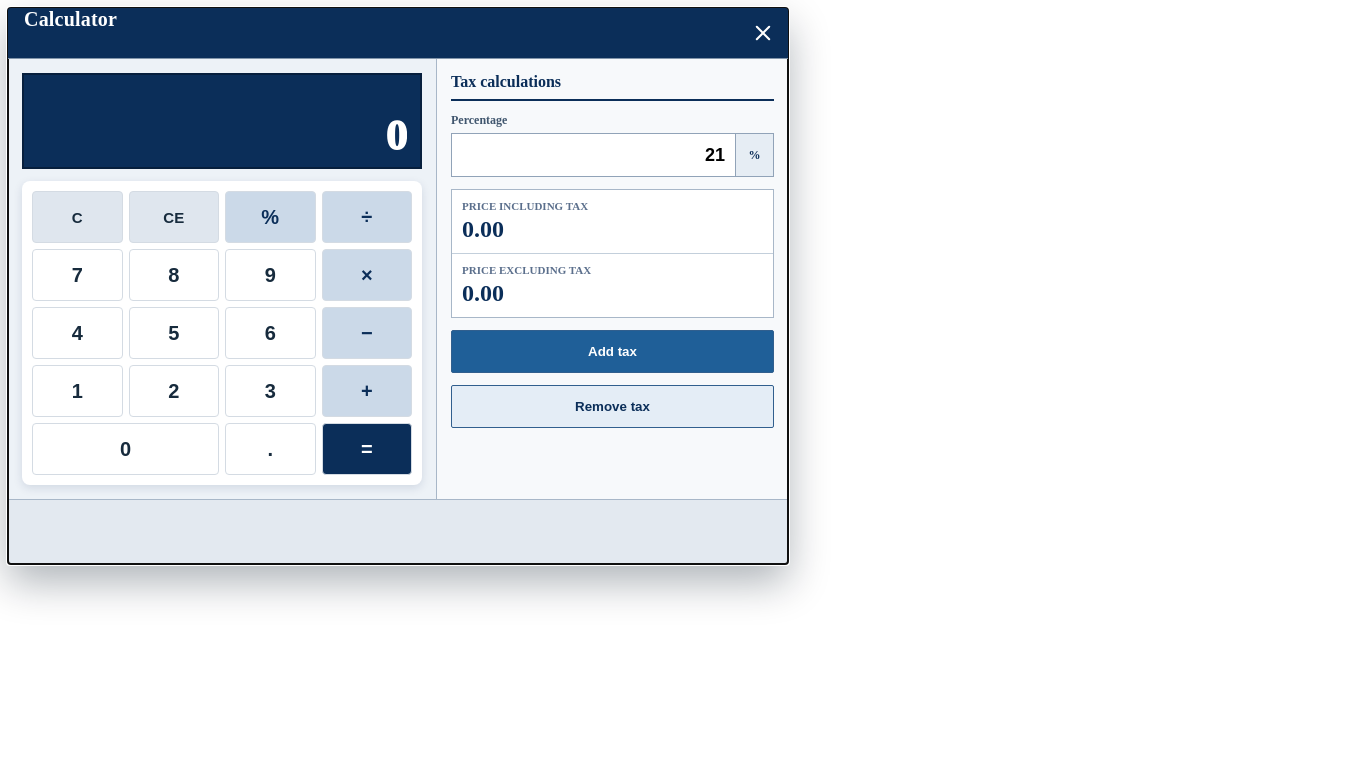
it: SaleCalculatorDialog interaction › clears only the focused percentage and keeps physical typing in that field
Click the button with aria-label "Clear entry". click: coordinates (174, 217)
box: [128, 191, 219, 243]
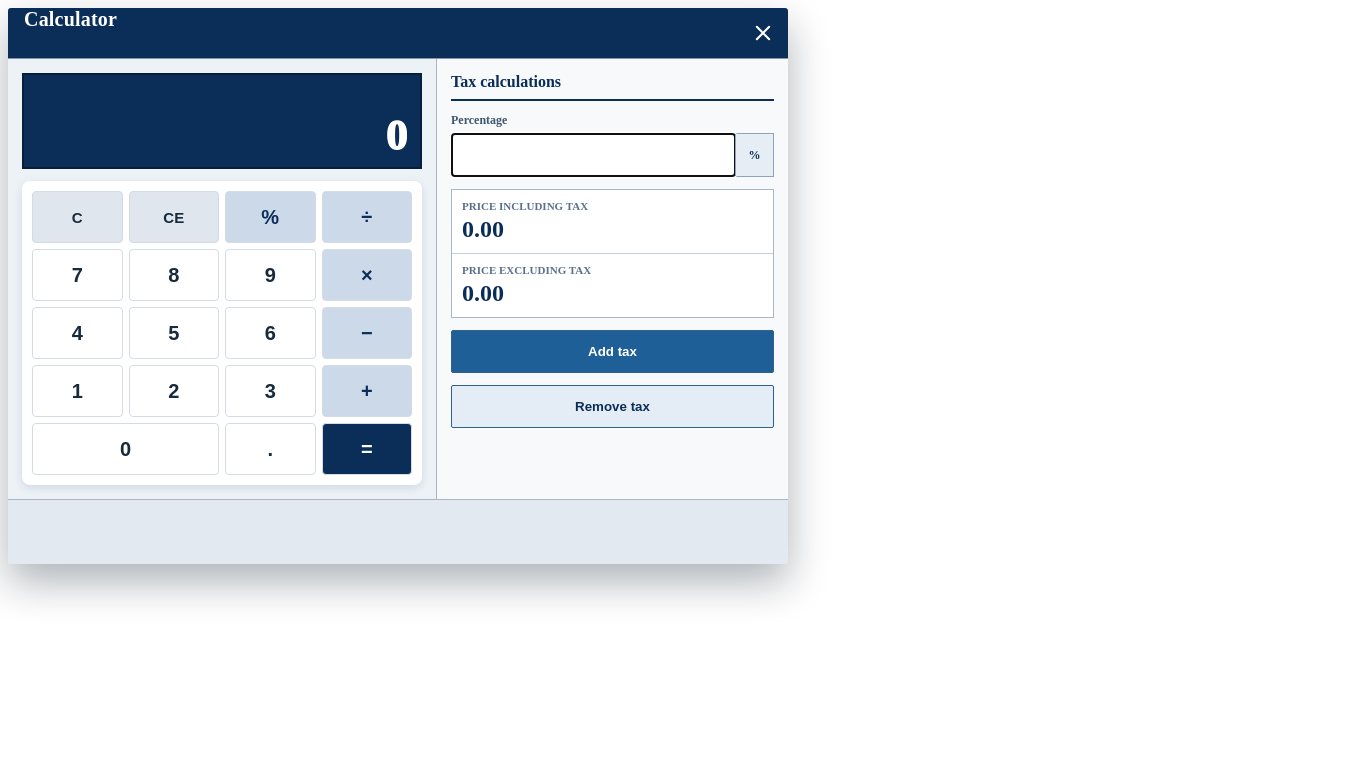
Expected: the field showing "21" is empty
Press 4 in the field showing "21", box [452, 134, 735, 176]
Type "4" into the field showing "21". click: coordinates (594, 155)
box: [452, 134, 735, 176]
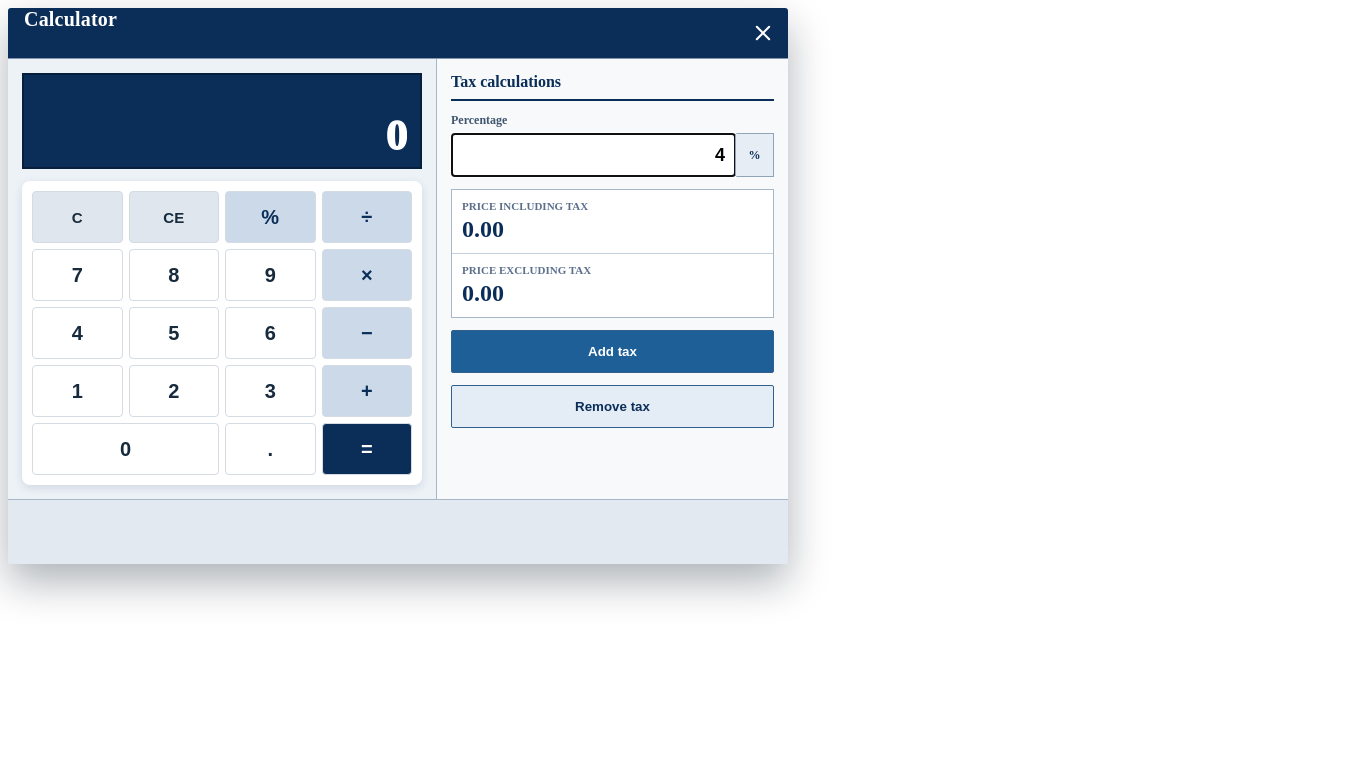
Click the button ".". click: coordinates (270, 449)
box: [225, 423, 316, 475]
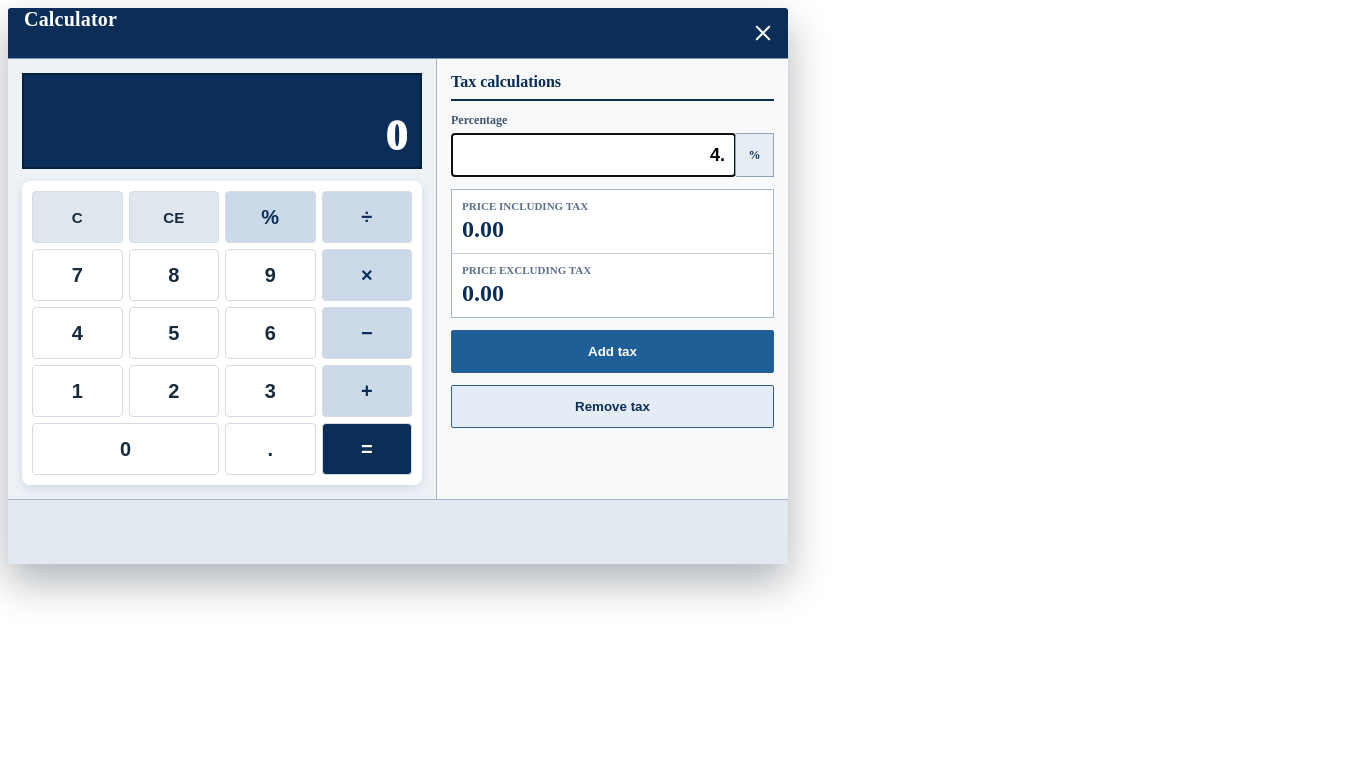
Click the button "5". click: coordinates (174, 333)
box: [128, 307, 219, 359]
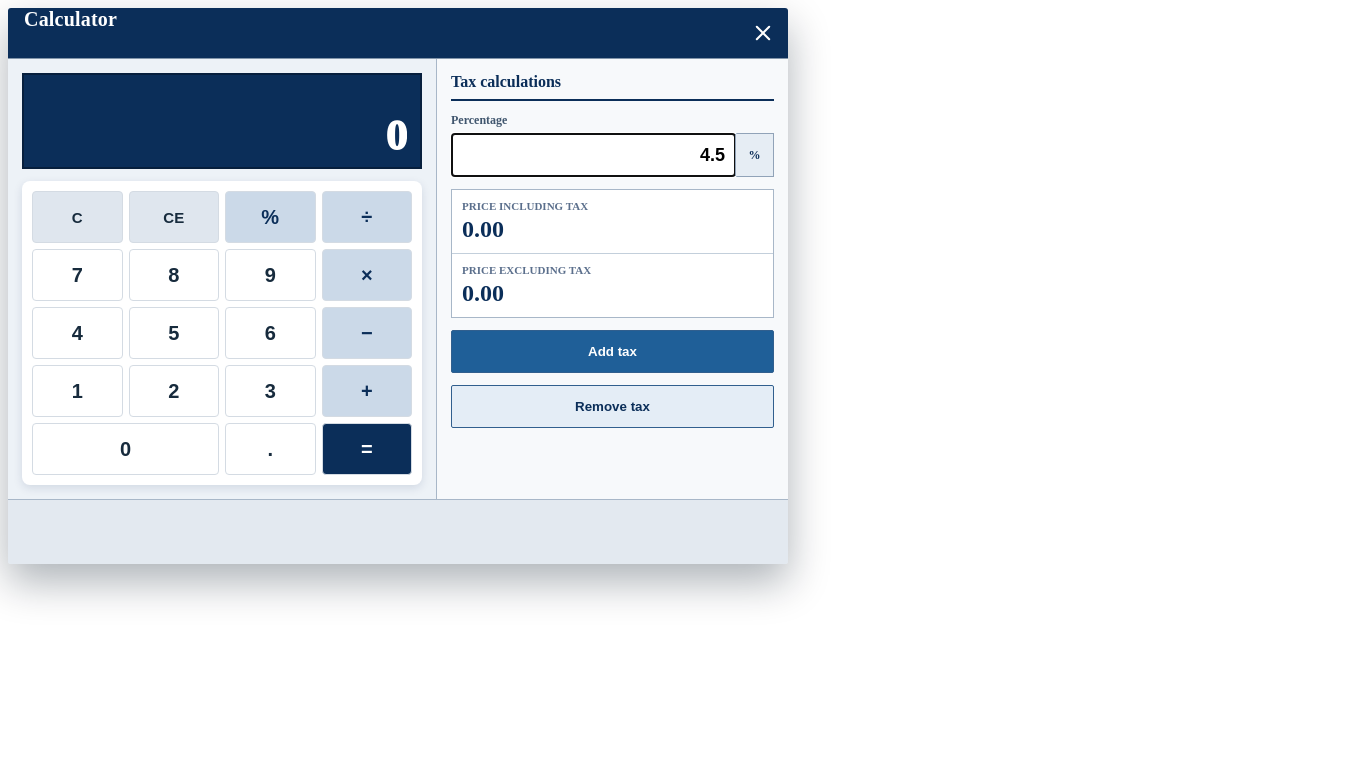
Expected: the text "0" is shown, [386, 114, 407, 157]
Expected: the field showing "21" holds "4.5", [452, 134, 735, 176]
